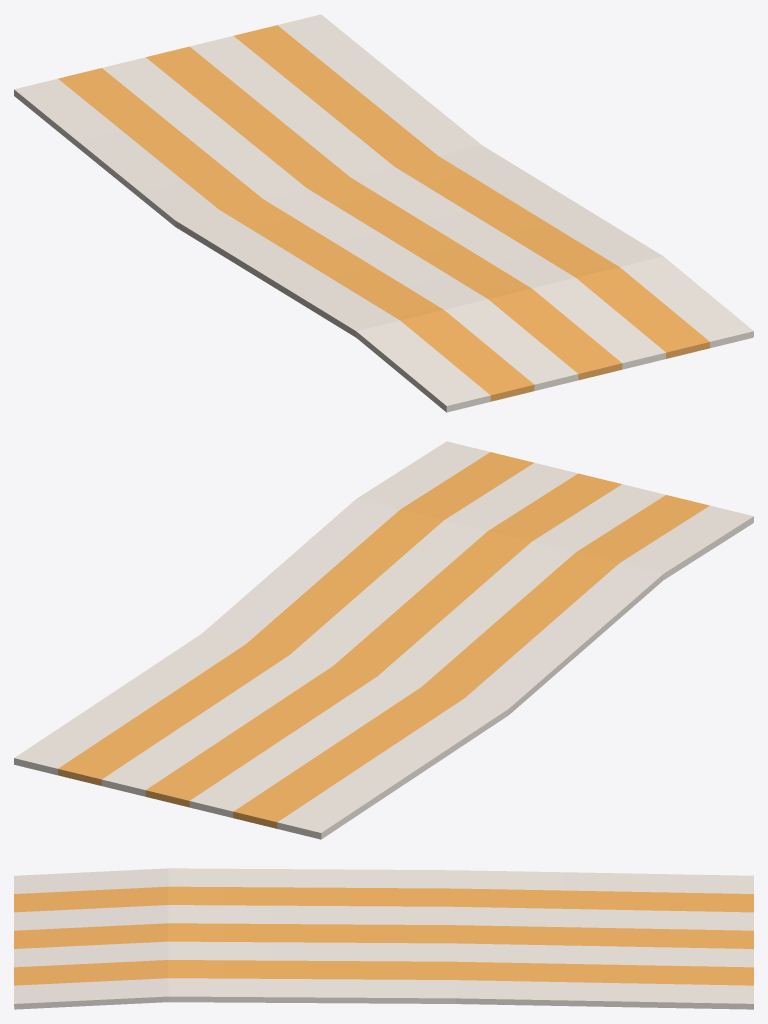
File: beach-towel.glb
3 views of the same model, one above another, from view 1: azimuth 30°, elevation 25°; view 2: azimuth 150°, elevation 25°; view 3: azimuth 270°, elevation 25° (orthographic). The views are drawn at different scales.
Visible parts, largest first — view 1: towel_beach-col; view 2: towel_beach-col; view 3: towel_beach-col.
Boxes of the visible parts, box(x1,y1,x2,y2) form: towel_beach-col: box(14, 14, 753, 412); towel_beach-col: box(14, 441, 753, 839); towel_beach-col: box(14, 868, 753, 1009).
Bounding box in the file's own units: 0.9135 × 0.0416 × 2.14.
